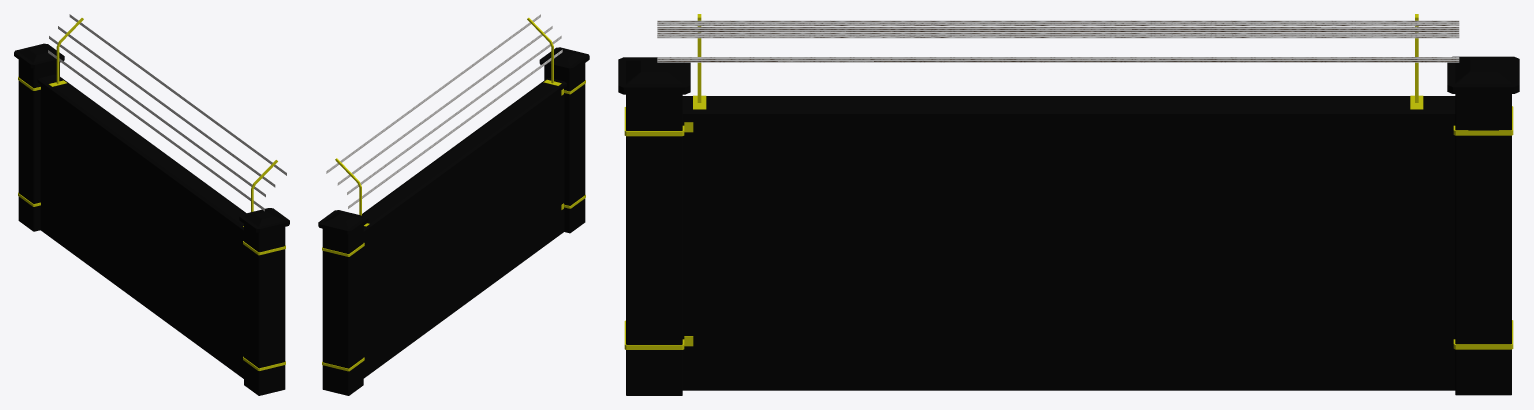
The model's file is Wall_Single_DoublePost_Long.fbx.
3 views of the same model, side by side, from view 1: azimuth 30°, elevation 25°; view 2: azimuth 150°, elevation 25°; view 3: azimuth 270°, elevation 25° (orthographic). The views are drawn at different scales.
Visible parts, largest first — view 1: Wall_DoublePost; view 2: Wall_DoublePost; view 3: Wall_DoublePost.
Boxes of the visible parts, <box> form: Wall_DoublePost: <box>14,14,289,395</box>; Wall_DoublePost: <box>318,14,589,395</box>; Wall_DoublePost: <box>618,14,1519,395</box>.
Size of the model in its own units: 0.8928 by 4.21 by 8.77.
